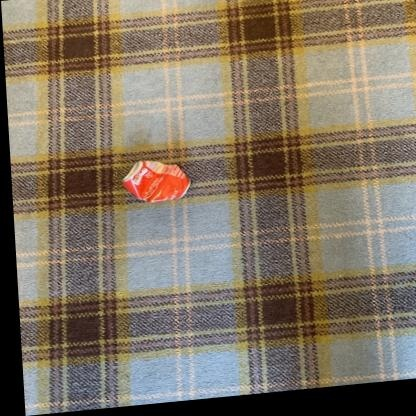trash: (123, 161, 190, 202)
